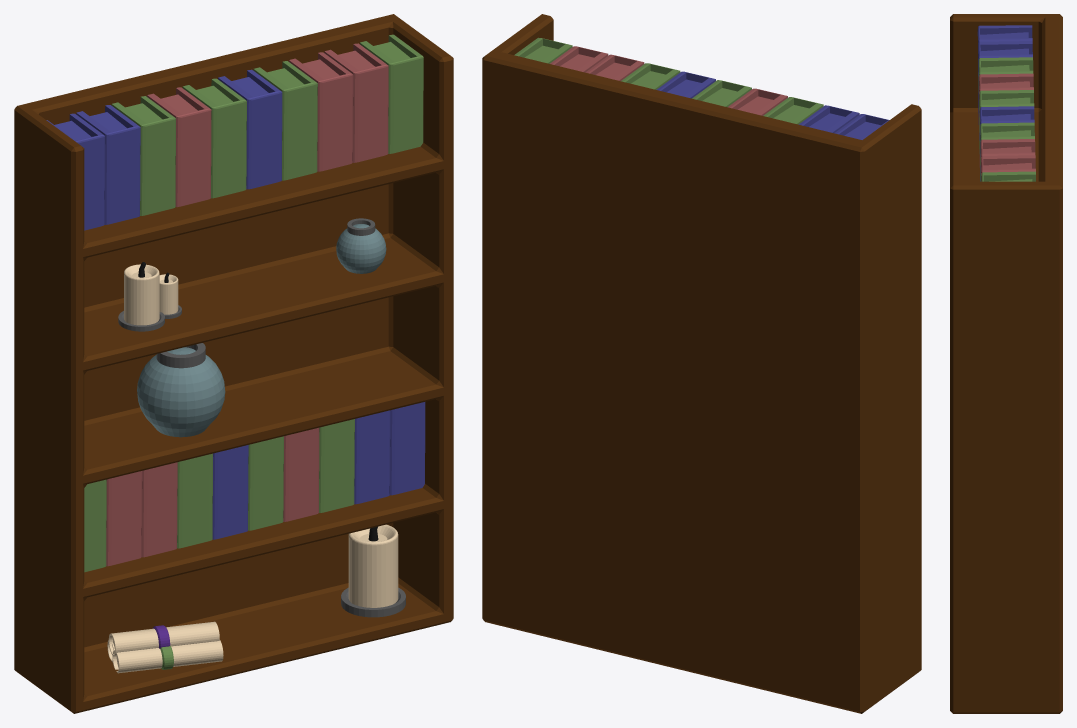
Rendered from Bookcase3.fbx.
3 renders of one model, left to right at view 1: azimuth 30°, elevation 25°; view 2: azimuth 150°, elevation 25°; view 3: azimuth 270°, elevation 25°, orthographic. The views are drawn at different scales.
Parts seen in each view (by area): view 1: Cube.019; view 2: Cube.019; view 3: Cube.019.
Boxes of the visible parts, box(x1,y1,x2,y2) form: Cube.019: box(14, 14, 453, 713); Cube.019: box(482, 14, 921, 713); Cube.019: box(950, 14, 1062, 713).
Size of the model in its own units: 474 by 671 by 130.
